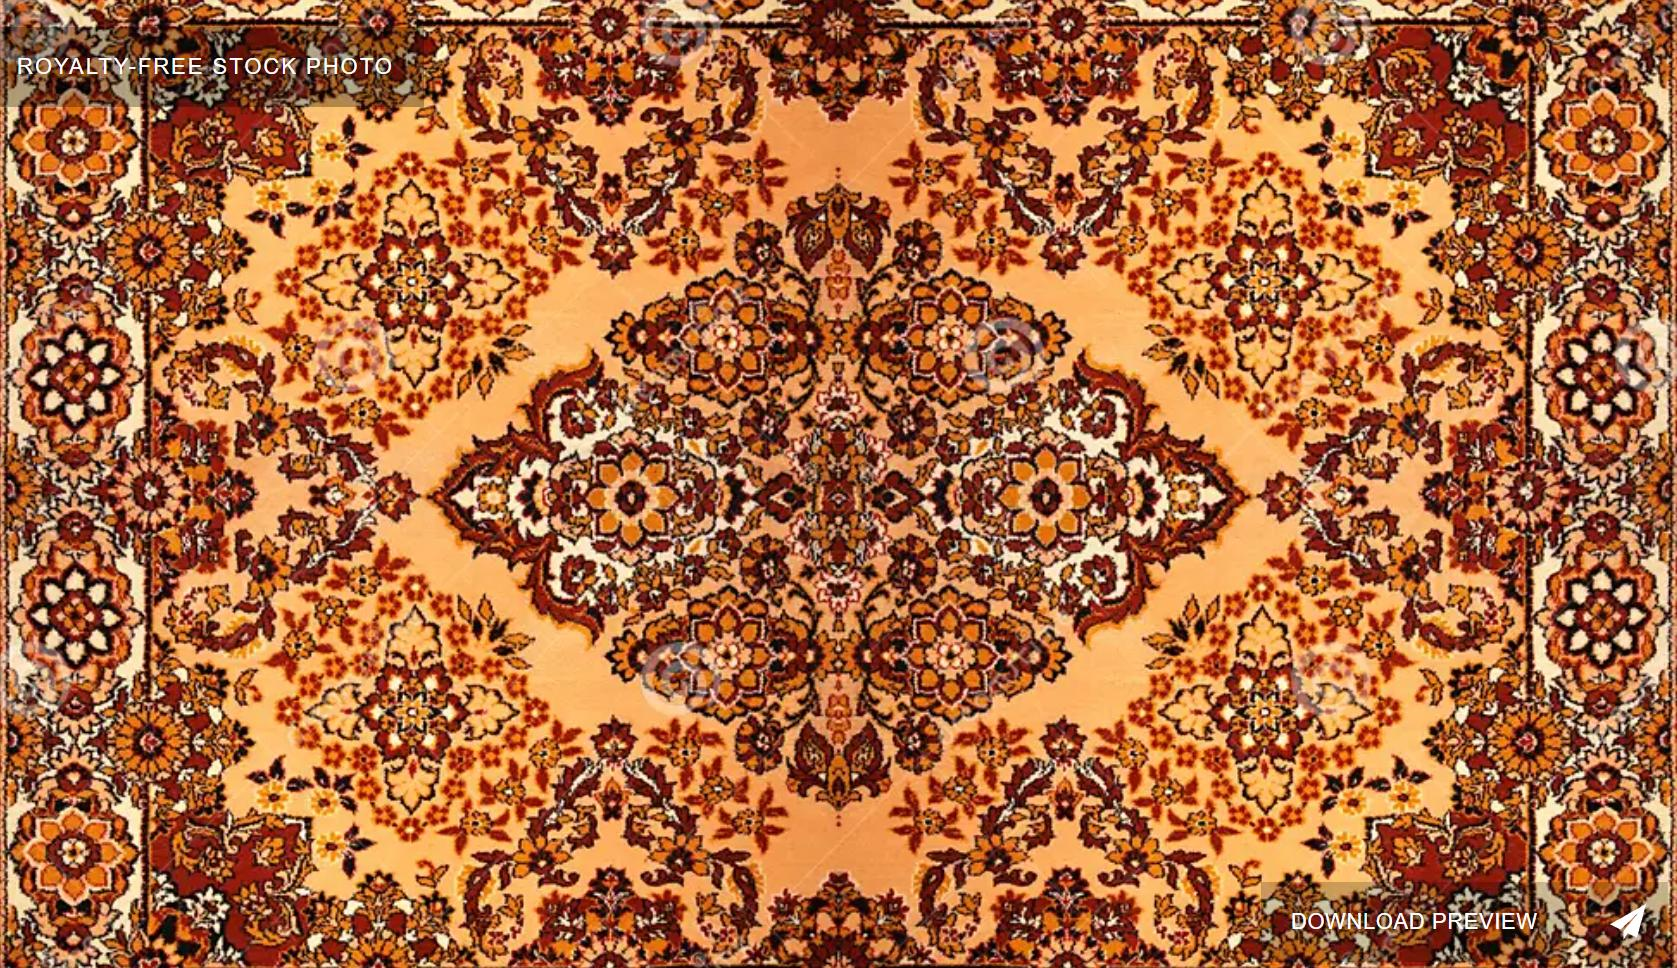carpet: (0, 0, 1677, 963)
